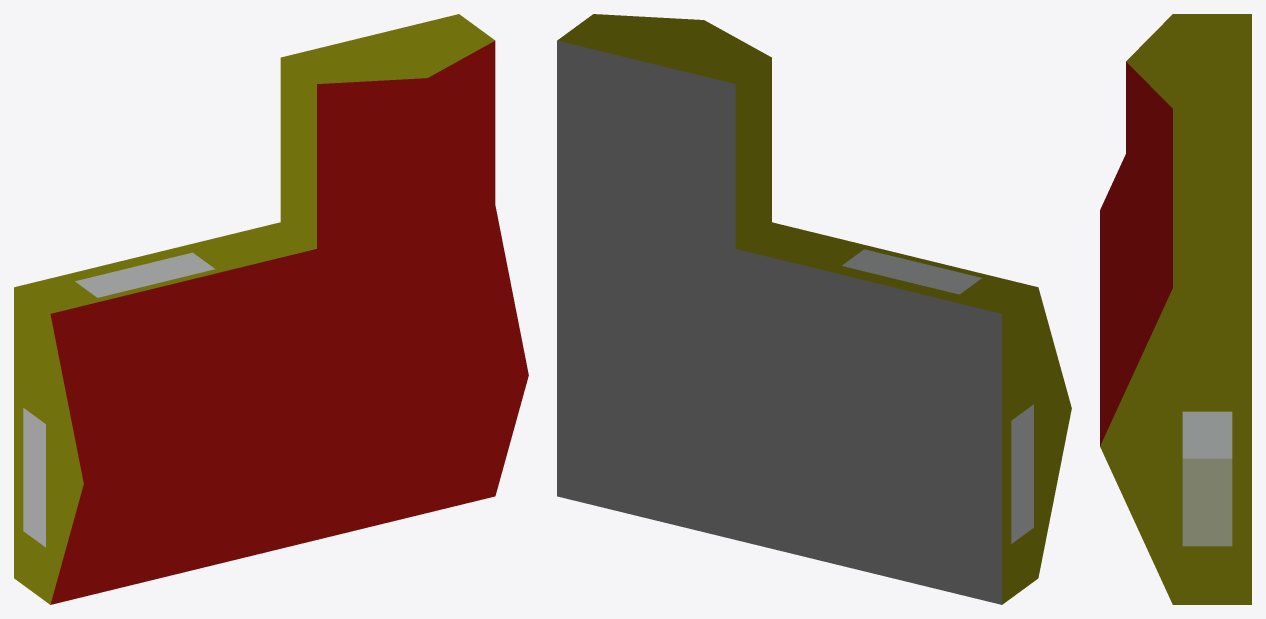
The model's file is idf.obj.
3 views of the same model, side by side, from view 1: azimuth 30°, elevation 25°; view 2: azimuth 150°, elevation 25°; view 3: azimuth 270°, elevation 25° (orthographic). The views are drawn at different scales.
Bounding box in the file's own units: 17.24 × 16.88 × 4.68.
